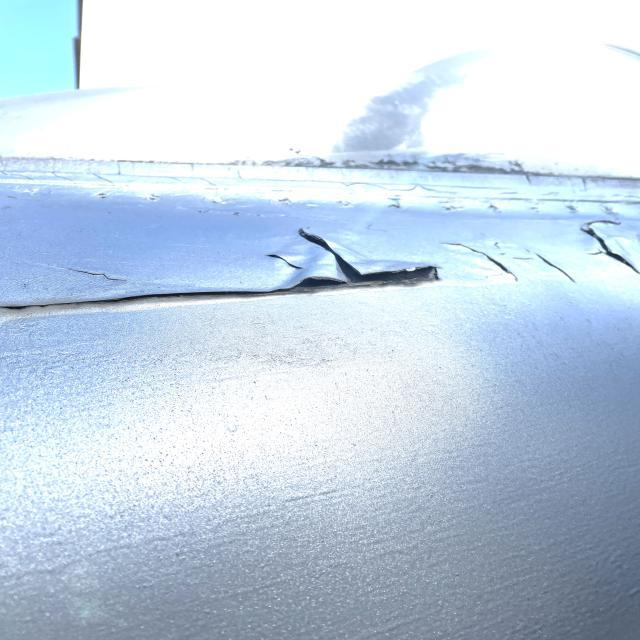crack: (448, 244, 576, 289), (84, 271, 138, 288), (270, 252, 306, 272)
